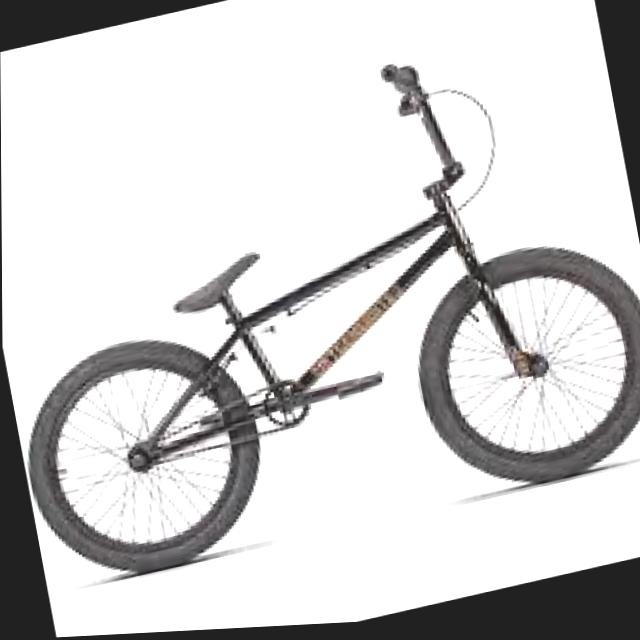bmx-bike: (0, 15, 640, 600)
